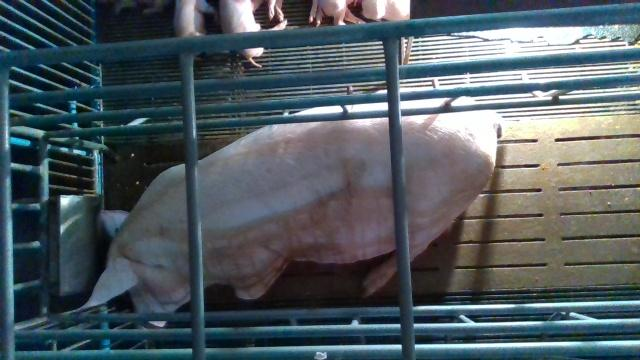piglet: (221, 0, 264, 69), (175, 0, 218, 36)
sow-sleep: (72, 86, 504, 327)
